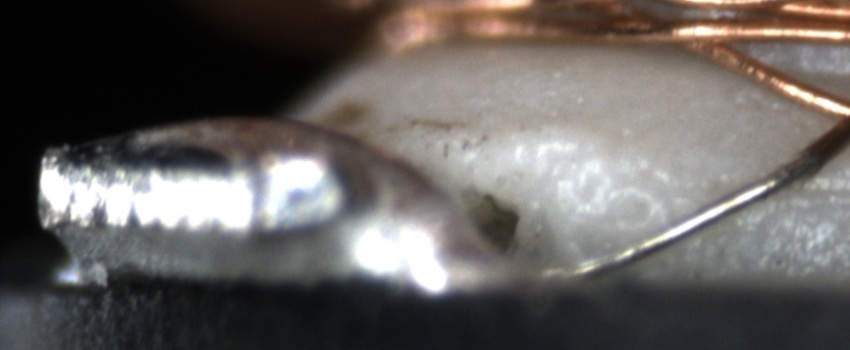DL: (789, 163, 848, 217)
TS: (535, 170, 793, 279)
TTCW: (546, 128, 839, 275)
